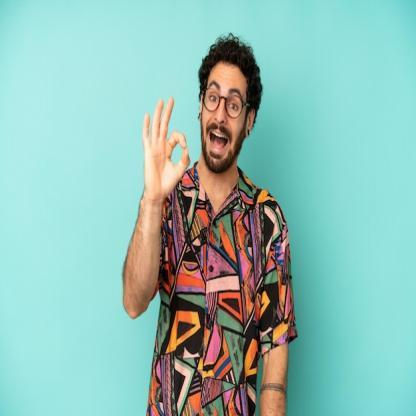ok: (136, 92, 193, 201)
